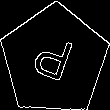P_S: (30, 30, 79, 90)
